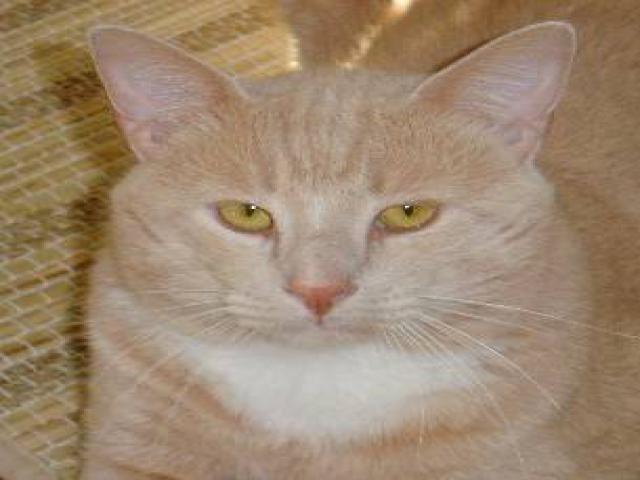cat: (67, 1, 630, 478)
